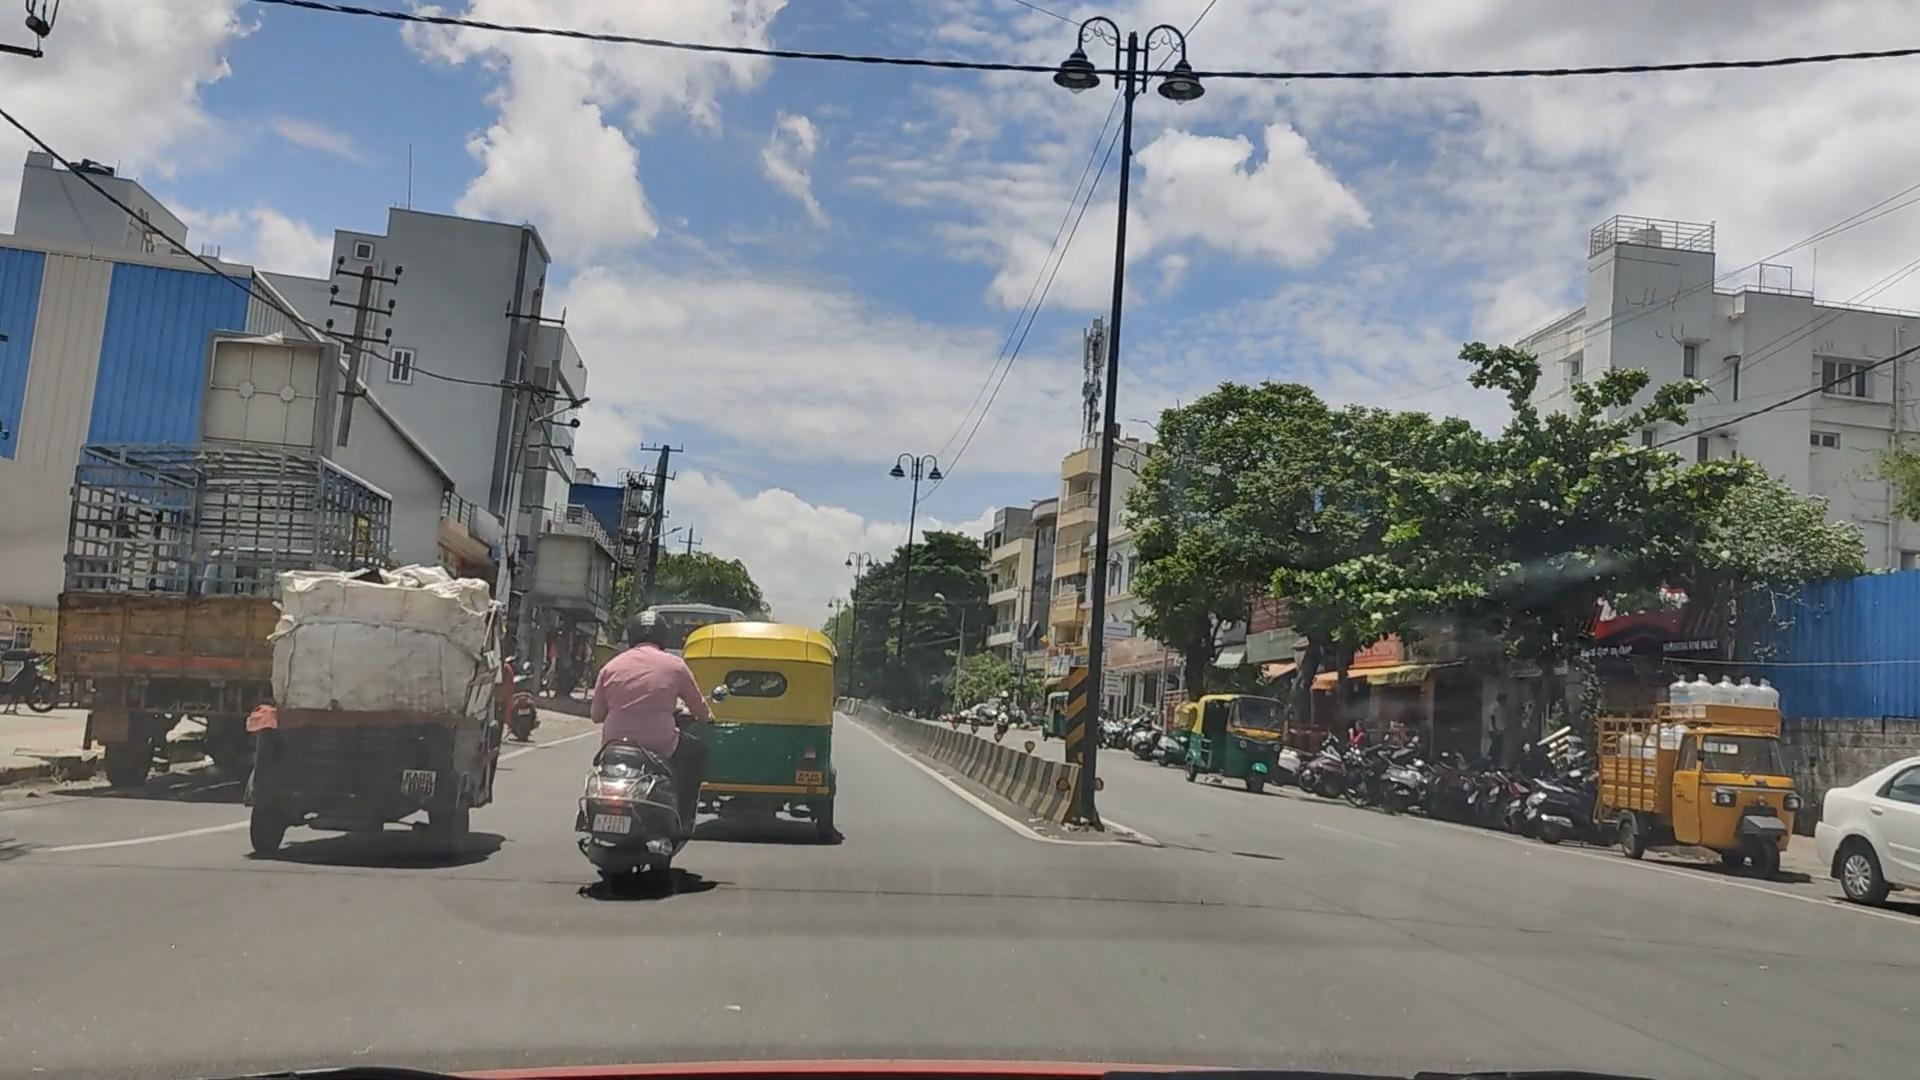HMV: (98, 435, 260, 731)
LMV: (265, 578, 489, 868), (670, 628, 870, 820), (575, 608, 691, 898)
